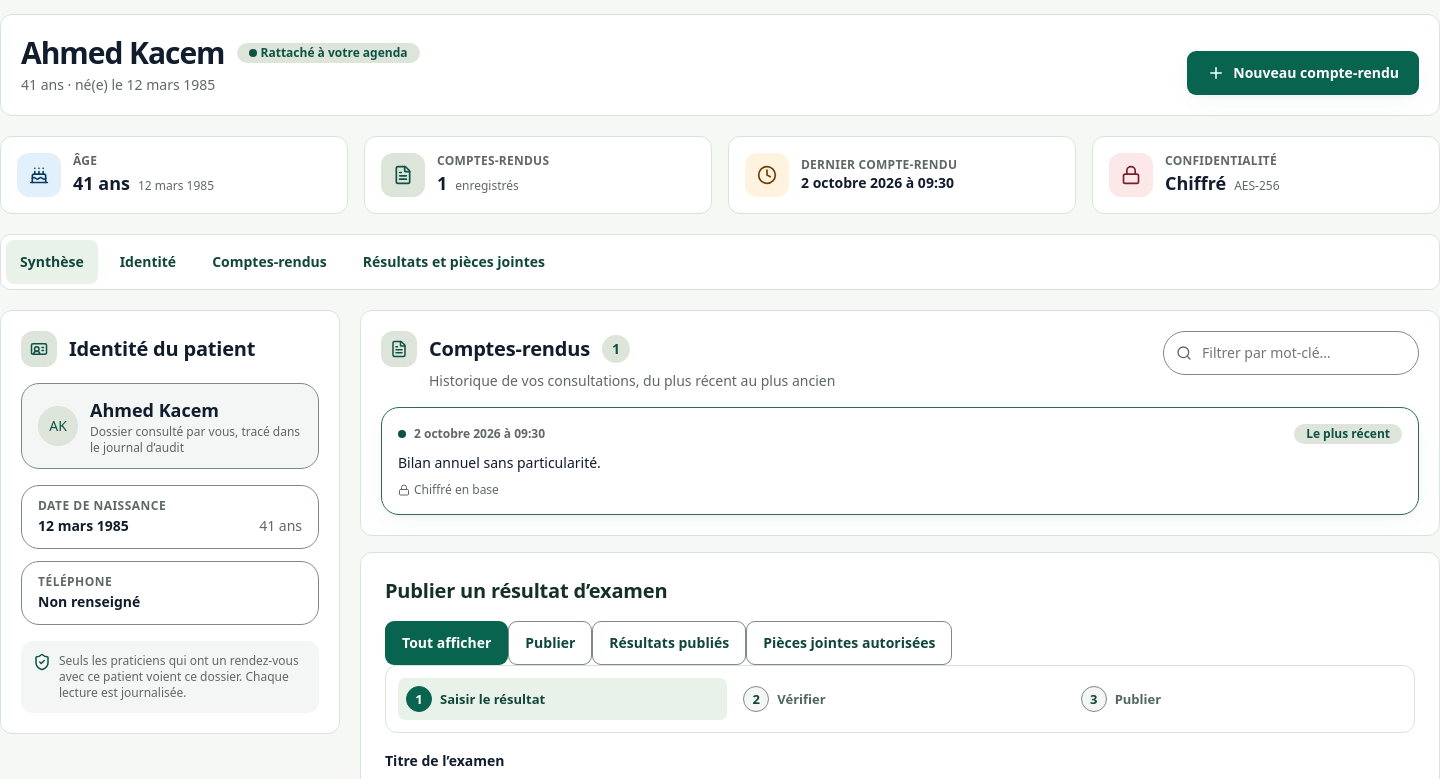
Test: "Nouveau compte-rendu" opens the editor; "Enregistrer" sends the text, then the list is read again and shows it
Click the button "Nouveau compte-rendu". click: (1303, 73)
box: left=1187, top=51, right=1419, bottom=95
(page scrolled)
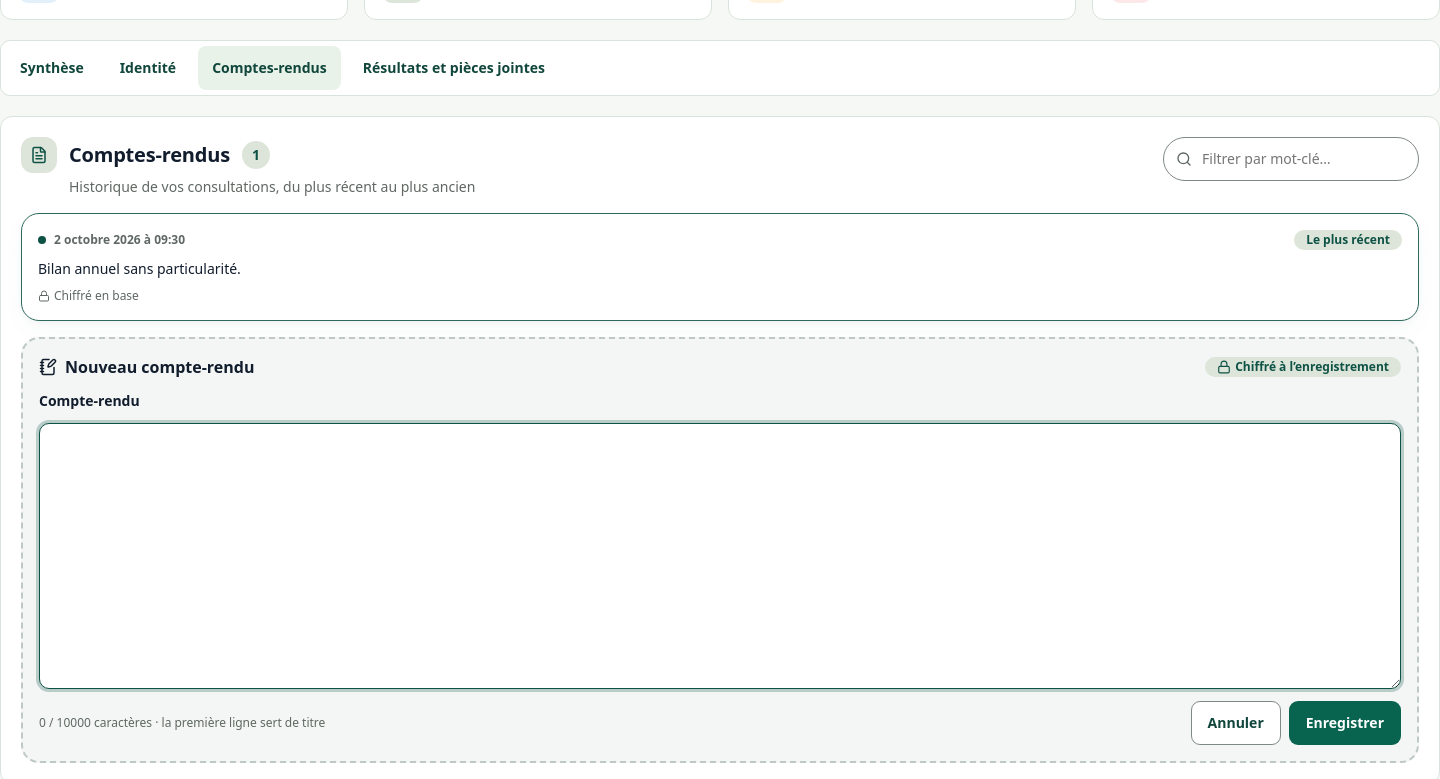
Type "Douleur thoracique atypique, ECG normal. Contrôle dans un mois." into the text box labelled "Compte-rendu". click: (720, 556)
box: left=39, top=423, right=1401, bottom=689
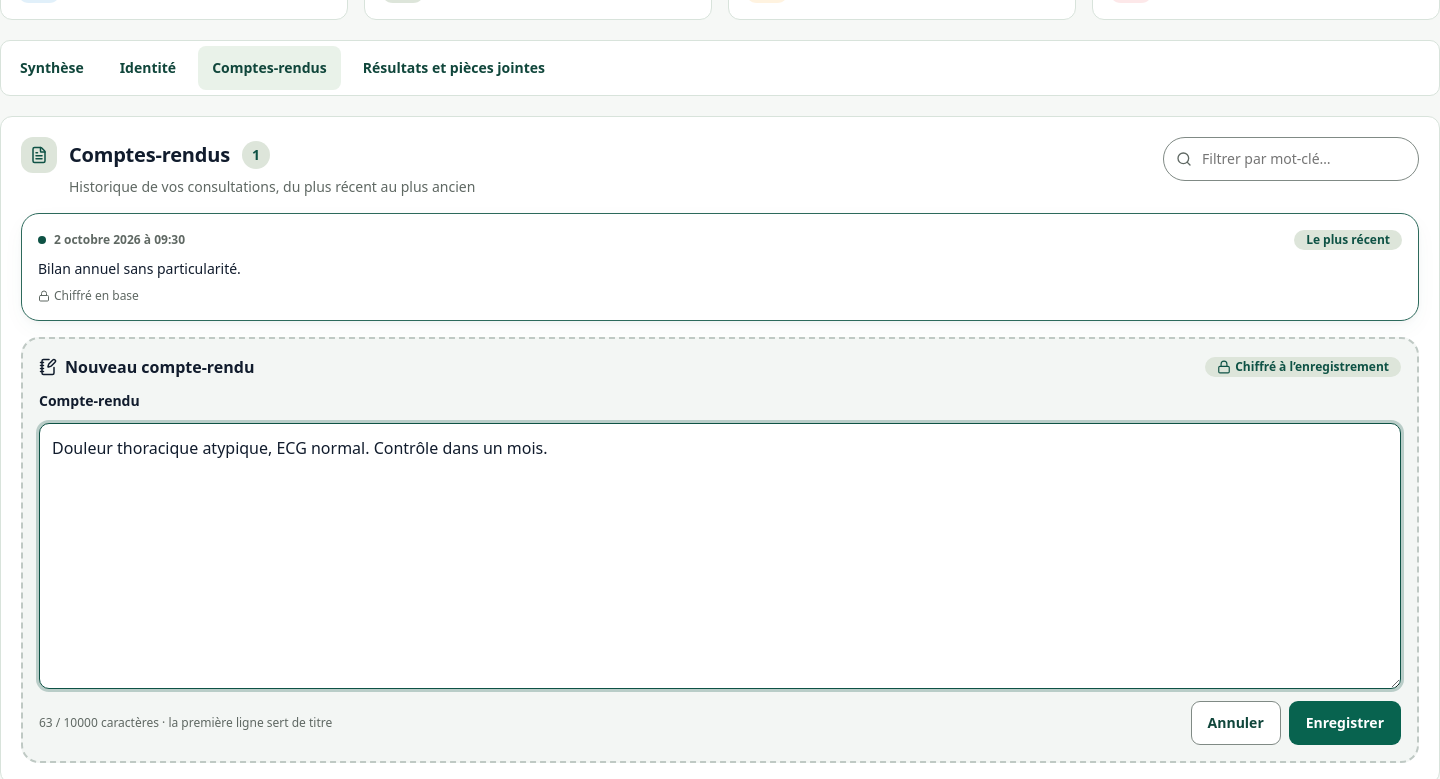
Click the button "Enregistrer". click: (1345, 723)
box: left=1289, top=701, right=1401, bottom=745
(page scrolled)
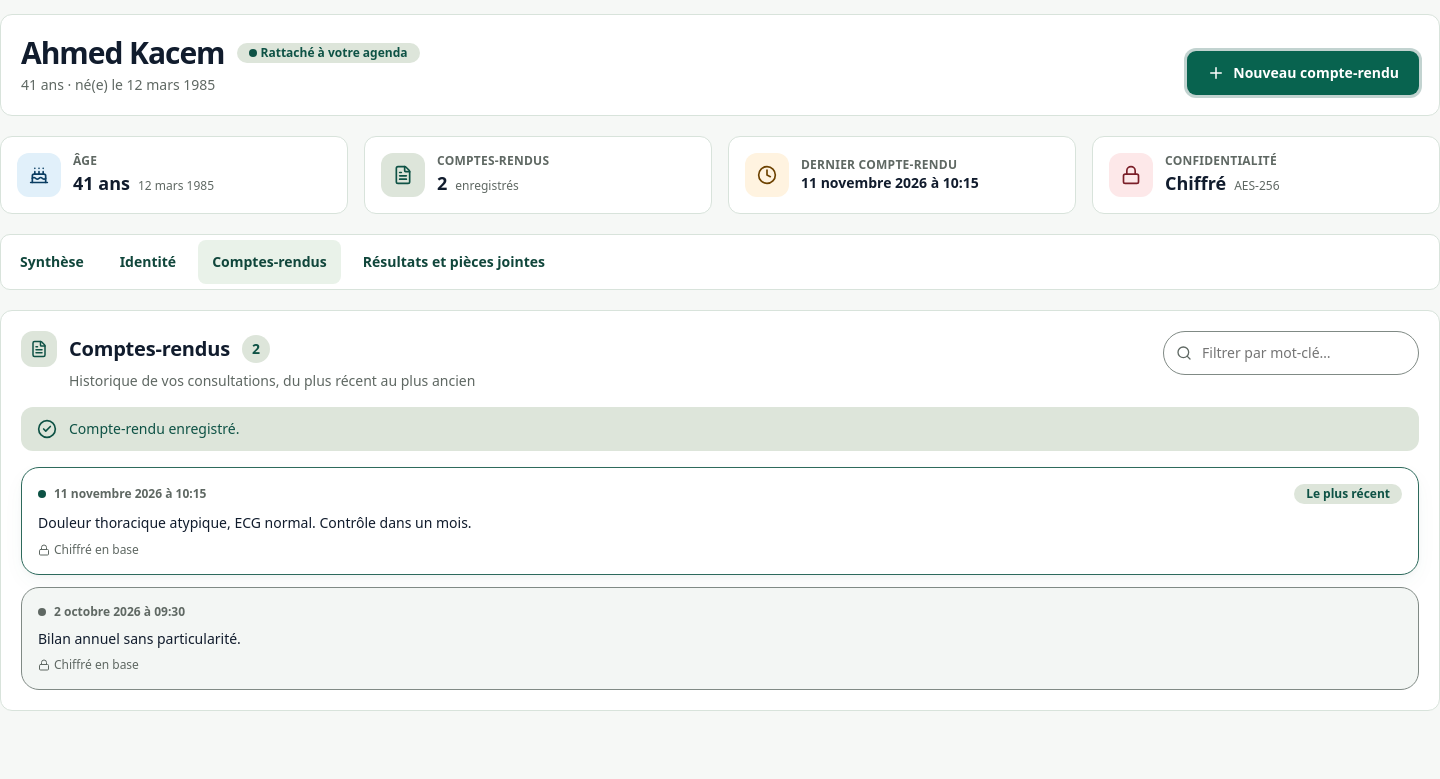
Result: the text "Compte-rendu enregistré." is shown at left=69, top=419, right=240, bottom=439
Result: the list item that starts with "11 novembre 2026 à 10:15" shows "Douleur thoracique atypique, ECG normal. Contrôle dans un mois." at left=38, top=513, right=472, bottom=532
